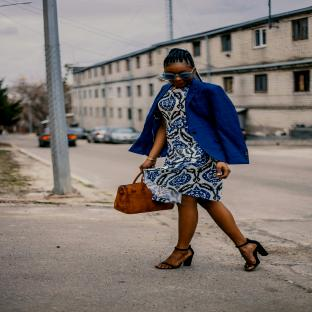Human: (129, 48, 268, 271)
